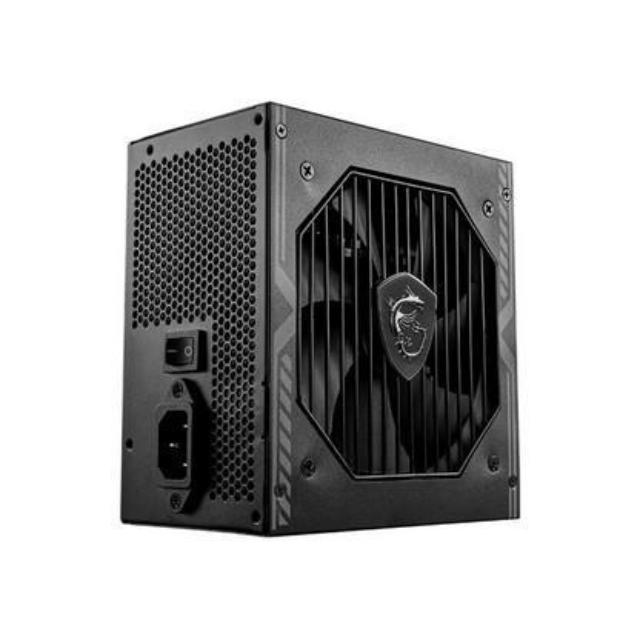PSU: (105, 80, 540, 557)
